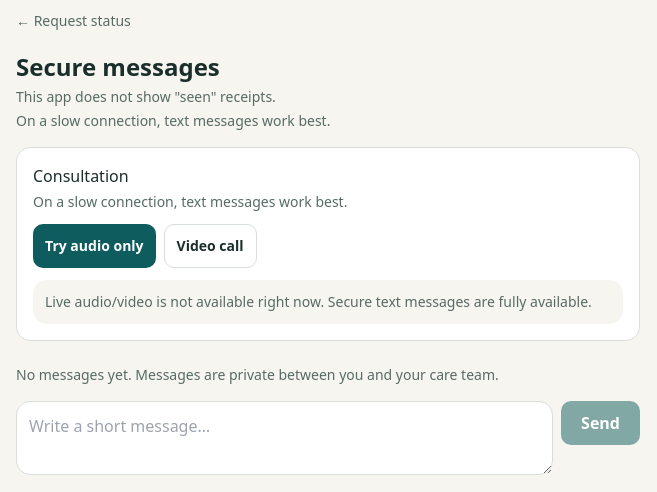
Scenario: lobby honesty › failed setup exposes text/audio fallbacks and never claims connected
Click the button "Try audio only": (94, 246) [33, 224, 156, 268]
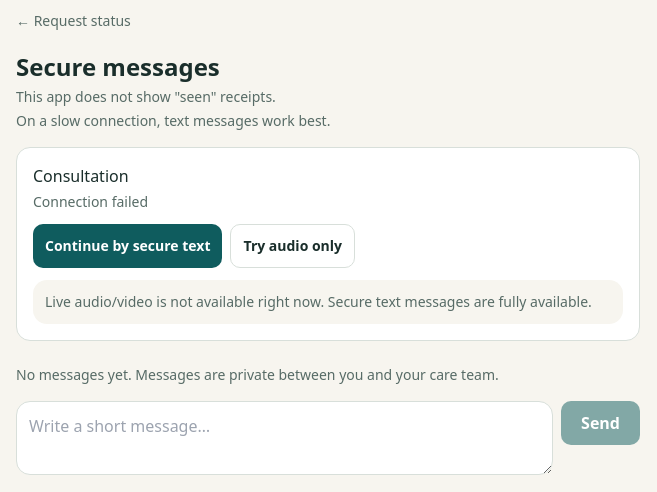
Check: the text "Connection failed" is shown, box [33, 192, 148, 211]
Check: the button "Continue by secure text" is shown, box [33, 224, 222, 268]
